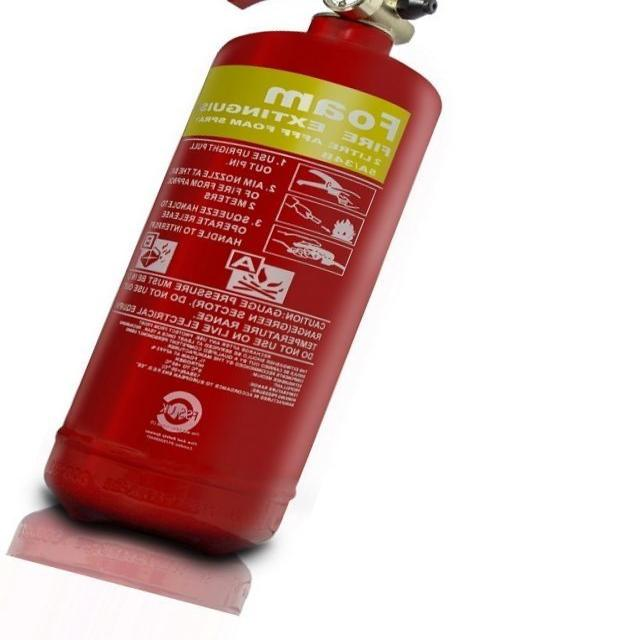fire_extinguisher: (35, 0, 464, 565)
